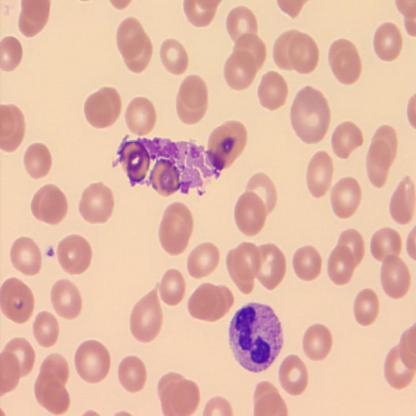Segmented neutrophil: (227, 299, 286, 375)
